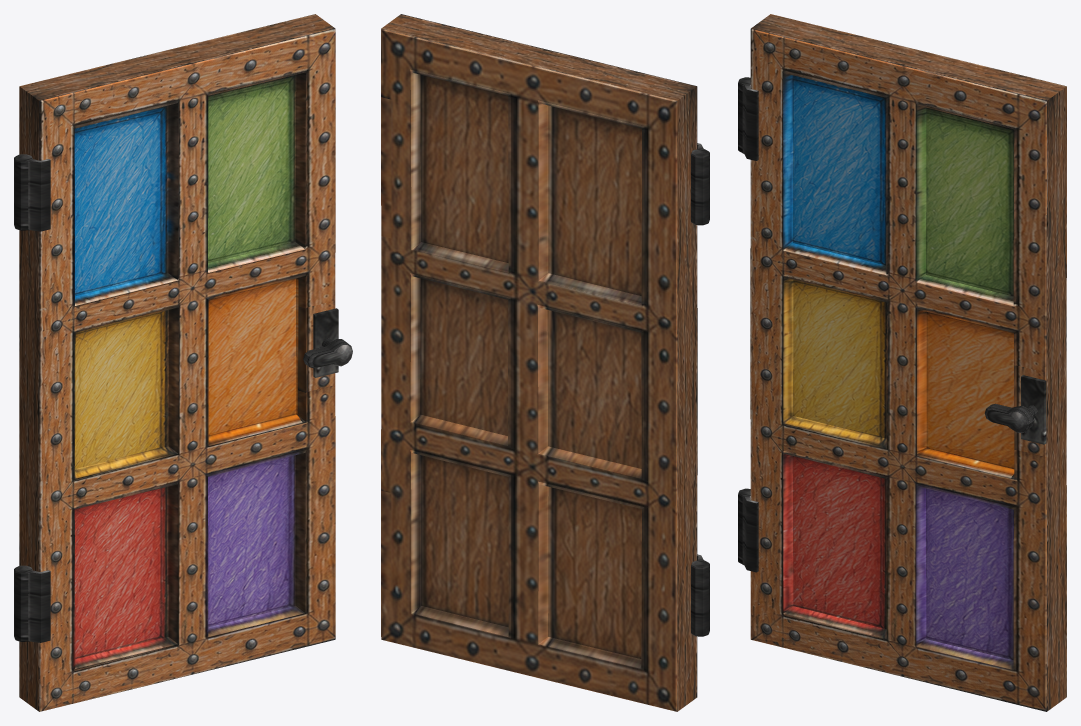
Rendered from fantasy-door.obj.
3 renders of one model, left to right at view 1: azimuth 30°, elevation 25°; view 2: azimuth 150°, elevation 25°; view 3: azimuth 330°, elevation 25°, orthographic.
Parts seen in each view (by area): view 1: DoorLeaf, Hinge_2, Hinge_1, HandleAssembly; view 2: DoorLeaf, Hinge_2, Hinge_1; view 3: DoorLeaf, HandleAssembly, Hinge_2, Hinge_1.
Part boxes in pixels (x1,y1,x2,y2): DoorLeaf: (19, 14, 335, 711); Hinge_2: (14, 154, 50, 231); Hinge_1: (14, 565, 50, 642); HandleAssembly: (303, 308, 352, 377); DoorLeaf: (381, 14, 697, 711); Hinge_2: (691, 143, 709, 225); Hinge_1: (691, 554, 709, 636); DoorLeaf: (750, 14, 1066, 711); HandleAssembly: (984, 375, 1046, 444); Hinge_2: (738, 77, 758, 160); Hinge_1: (738, 488, 758, 572).
Bounding box in the file's own units: 1.1 × 2.05 × 0.243.
1 material, 1 textured.
